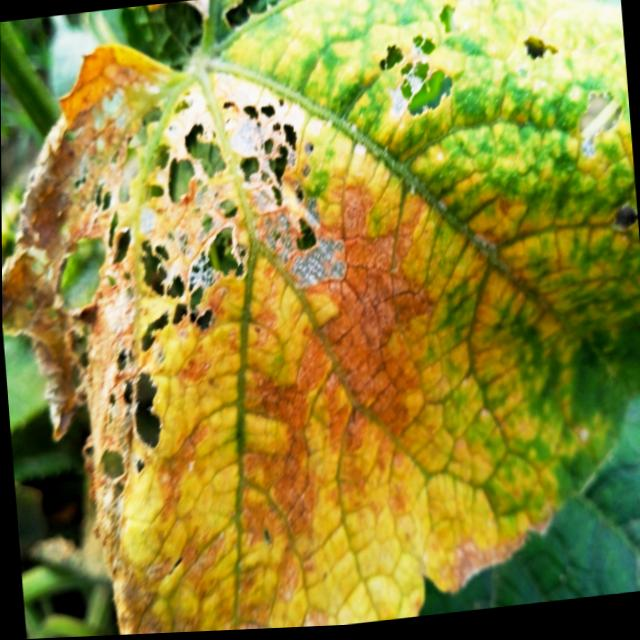Anthracnose: (16, 83, 323, 532), (374, 31, 456, 129)
